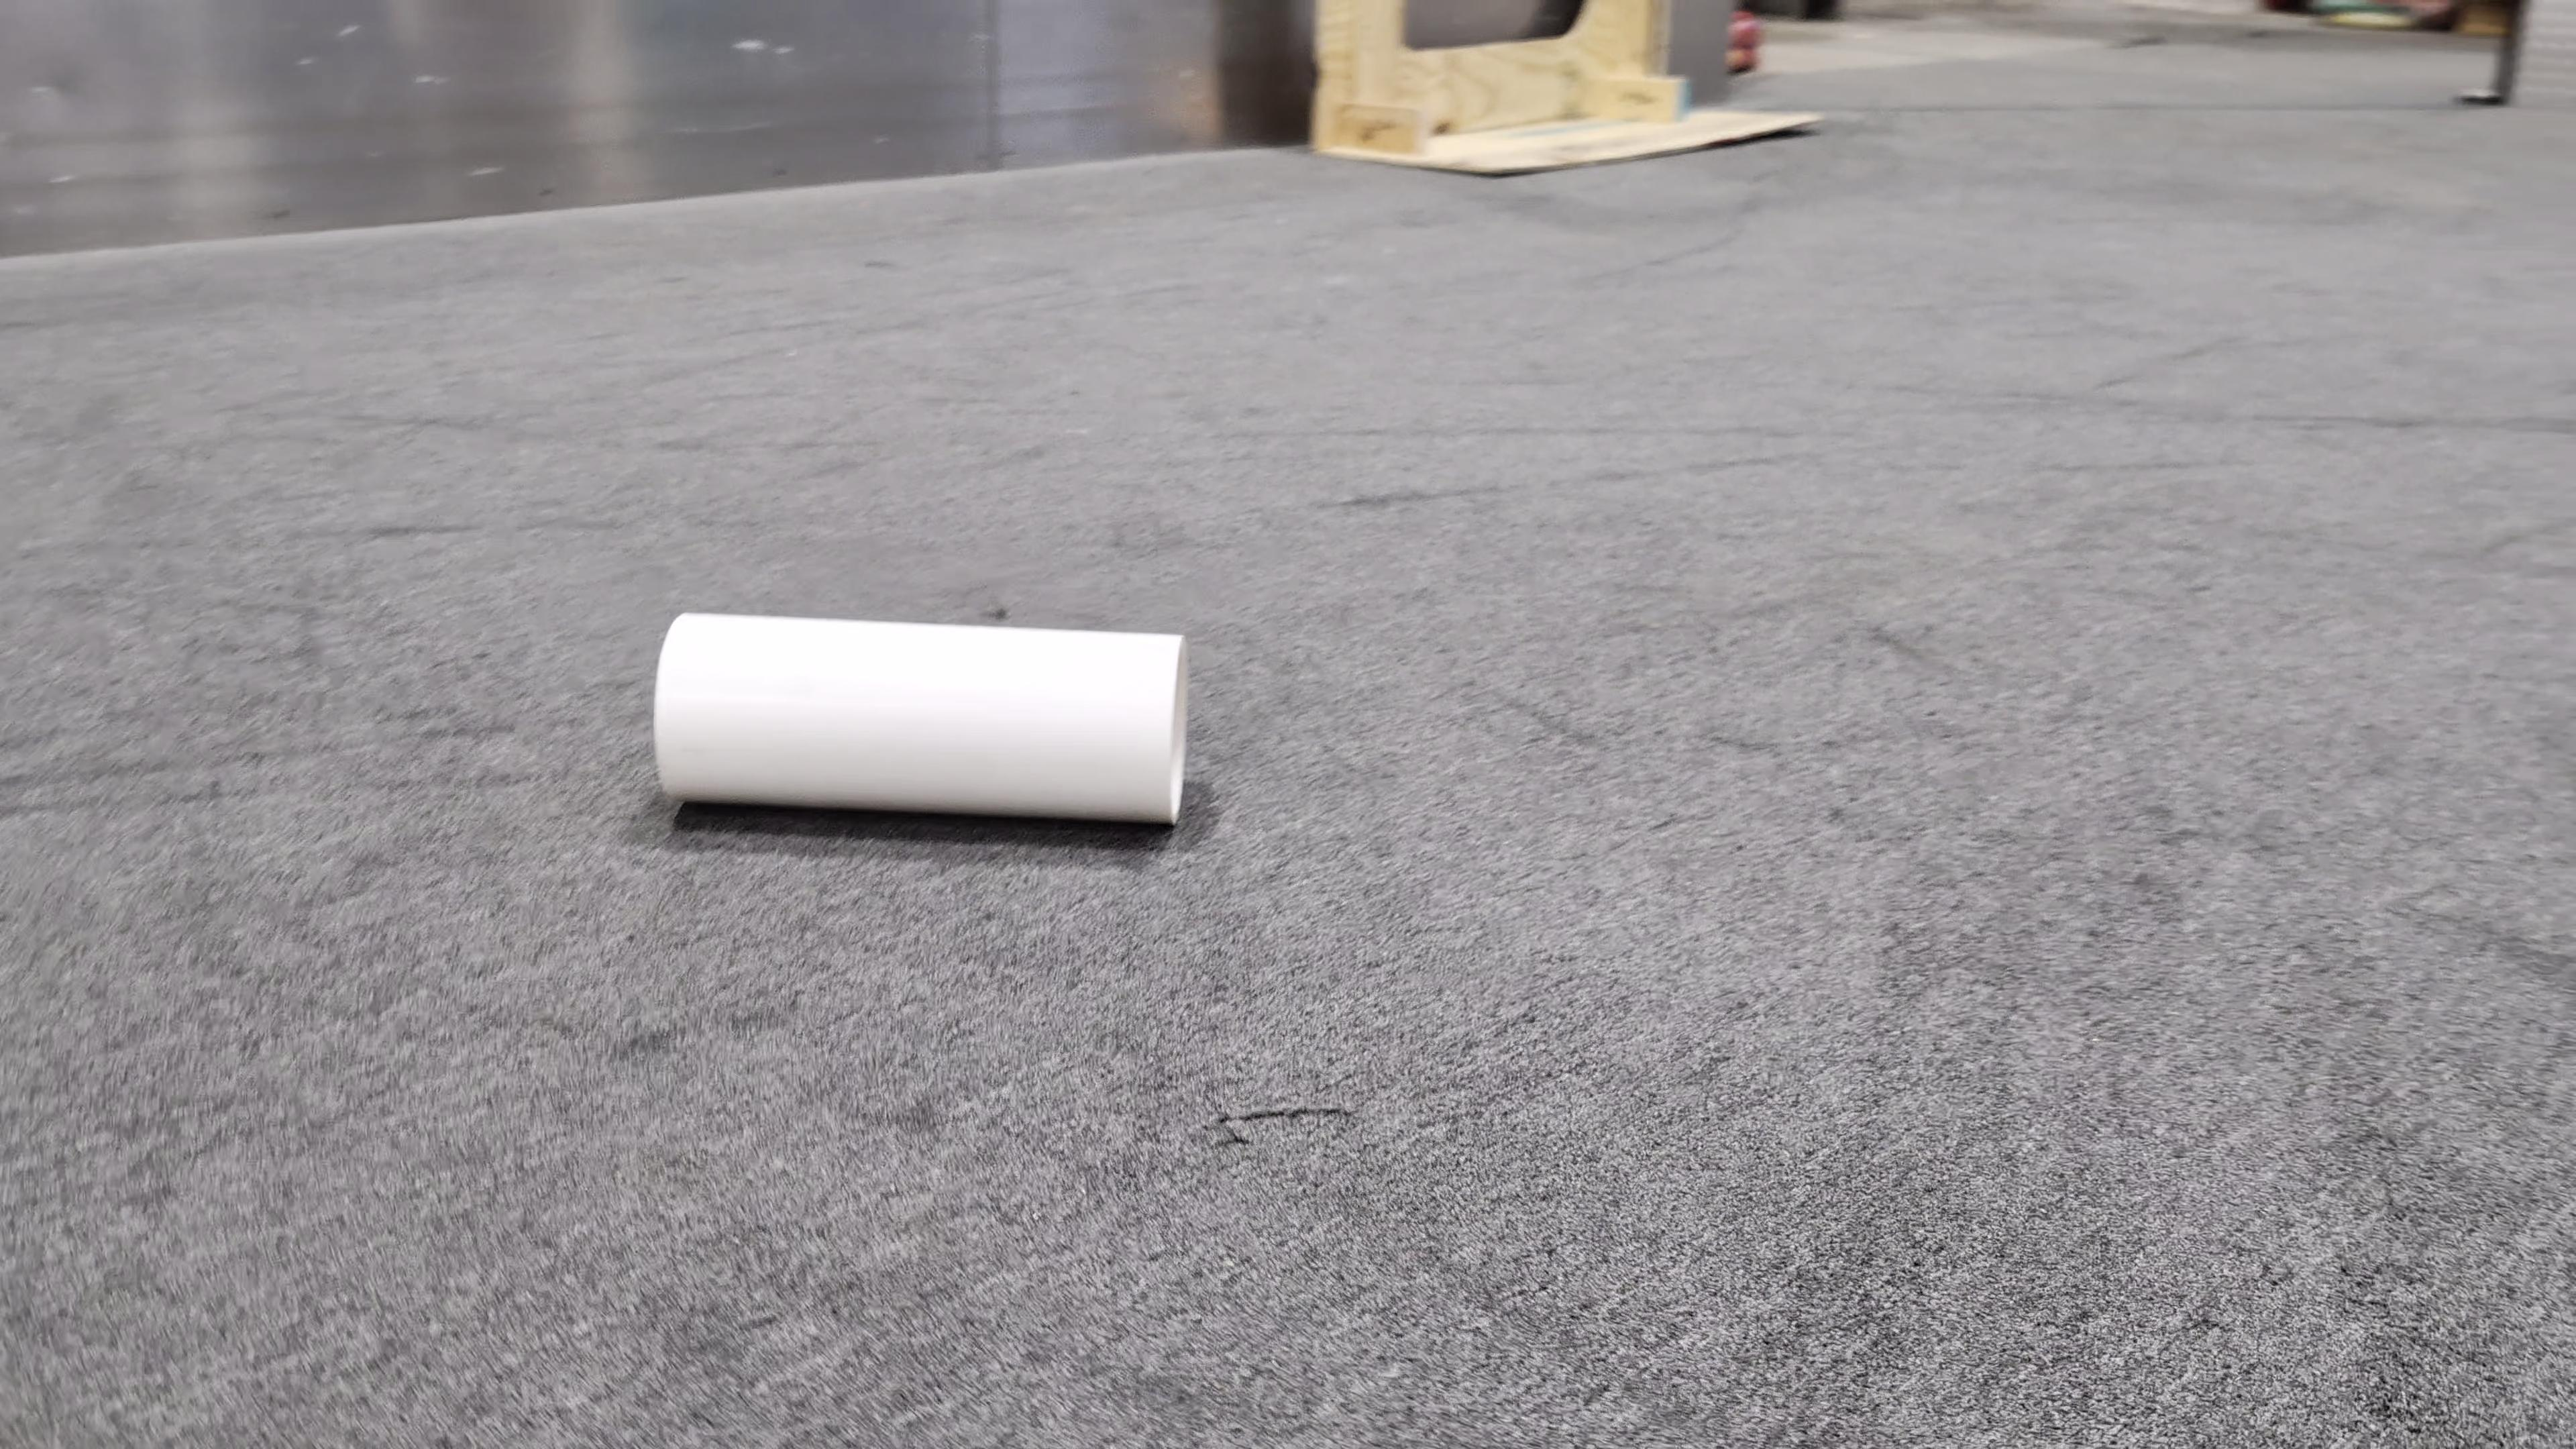coral: (653, 609, 1187, 826)
